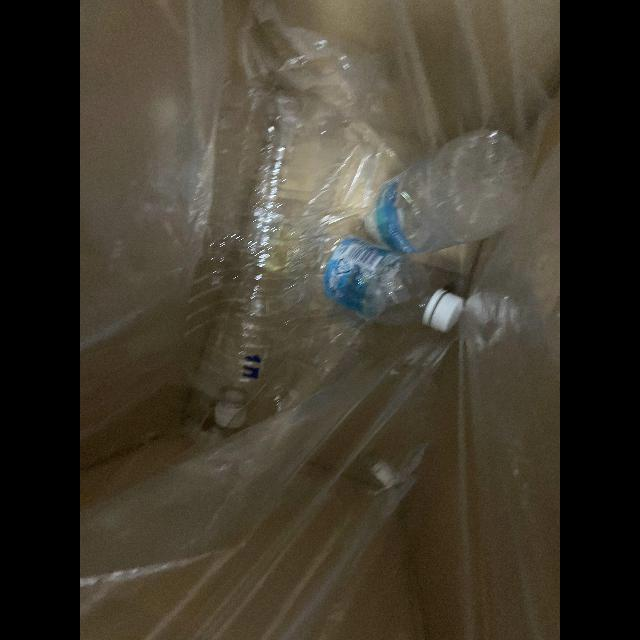plastic_bottle: (182, 75, 348, 429), (365, 128, 530, 253), (321, 236, 463, 332)
